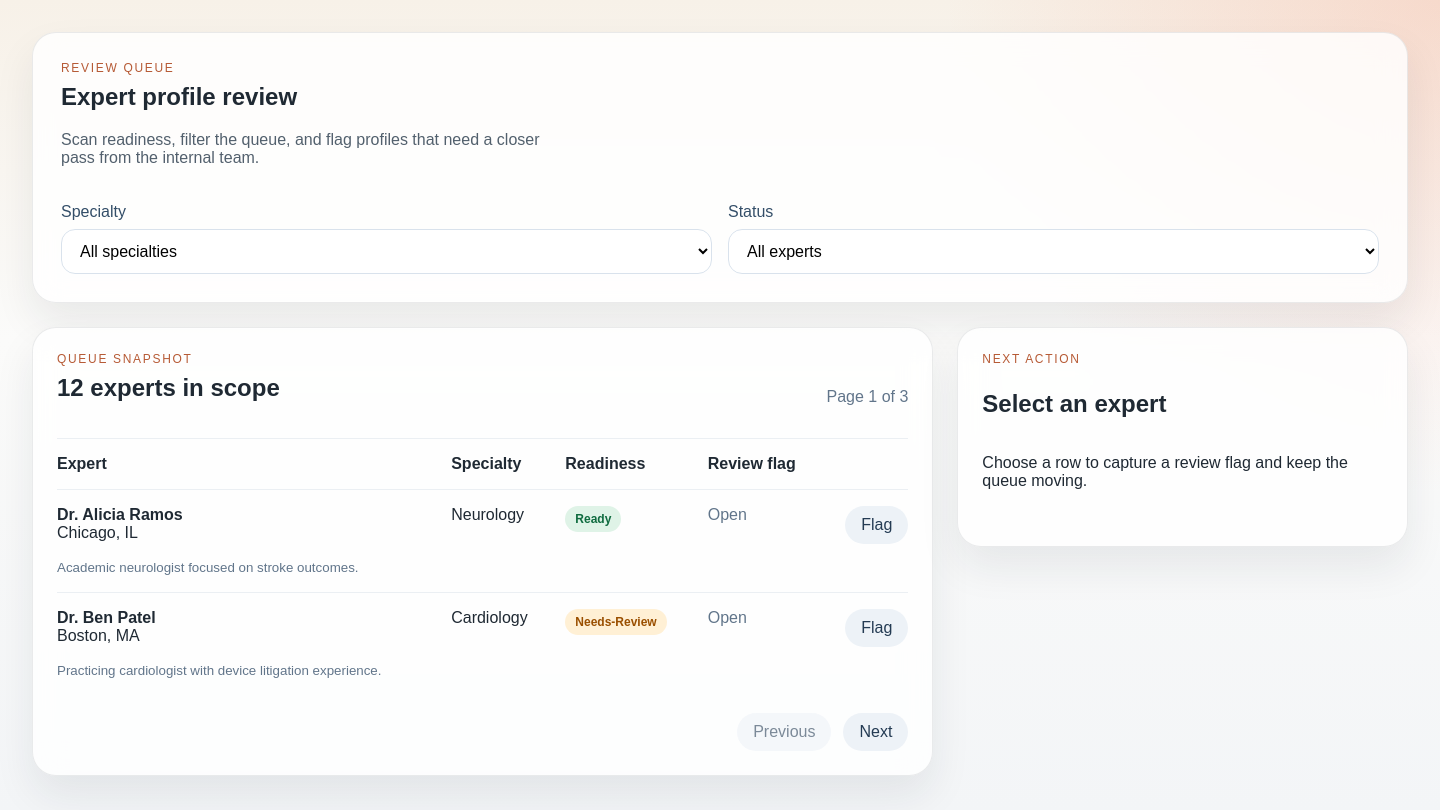
Test case: App › filters the list and flags an expert
This screenshot has width=1440, height=810.
Expected: the text "Dr. Alicia Ramos" is shown, [57, 506, 183, 523]
Select "Cardiology" in the dropdown labelled "Specialty" at {"x": 386, "y": 251}, box [61, 229, 712, 274]
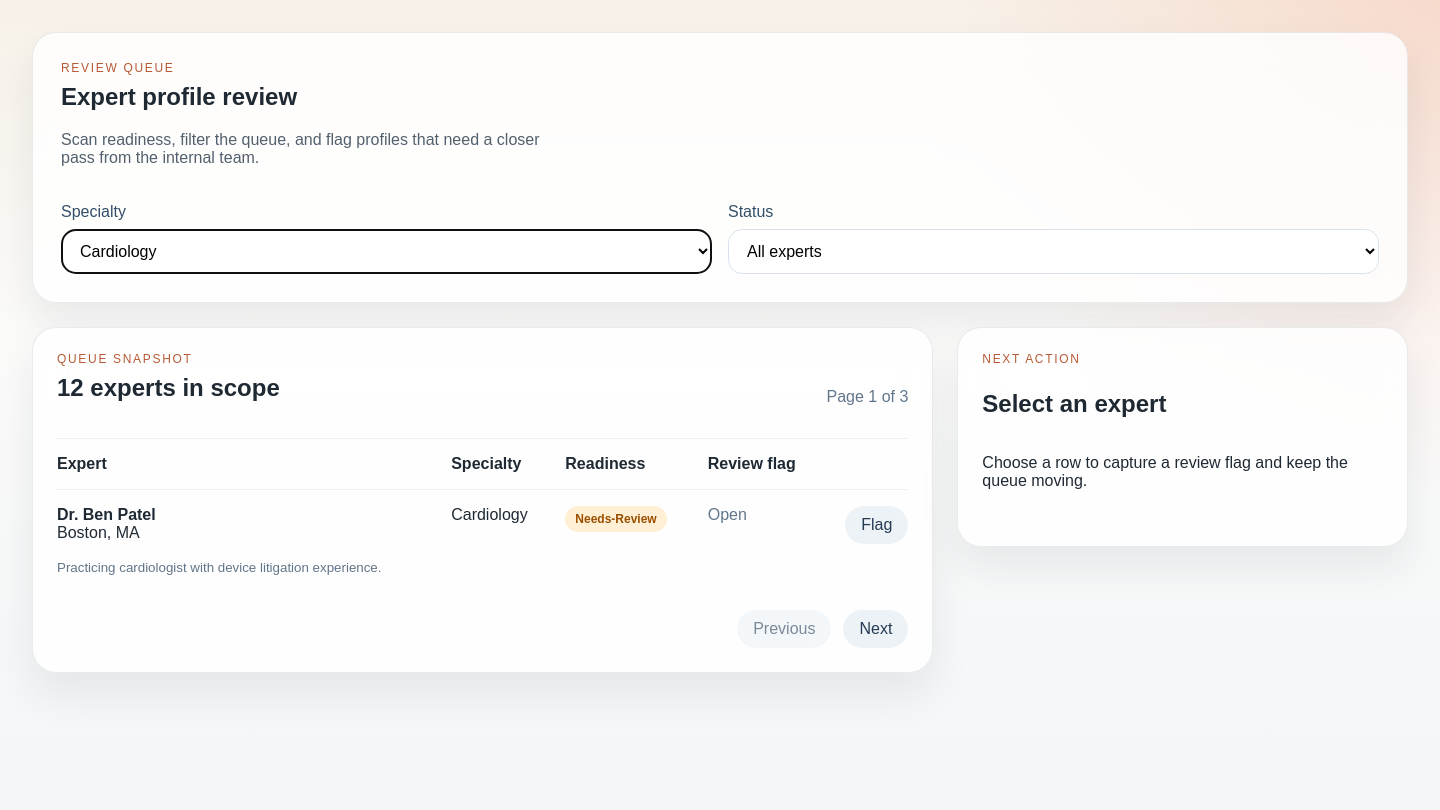
Expected: the text "Dr. Ben Patel" is shown, [57, 506, 156, 523]
Click the button "Flag" at {"x": 877, "y": 525}, box [845, 506, 908, 544]
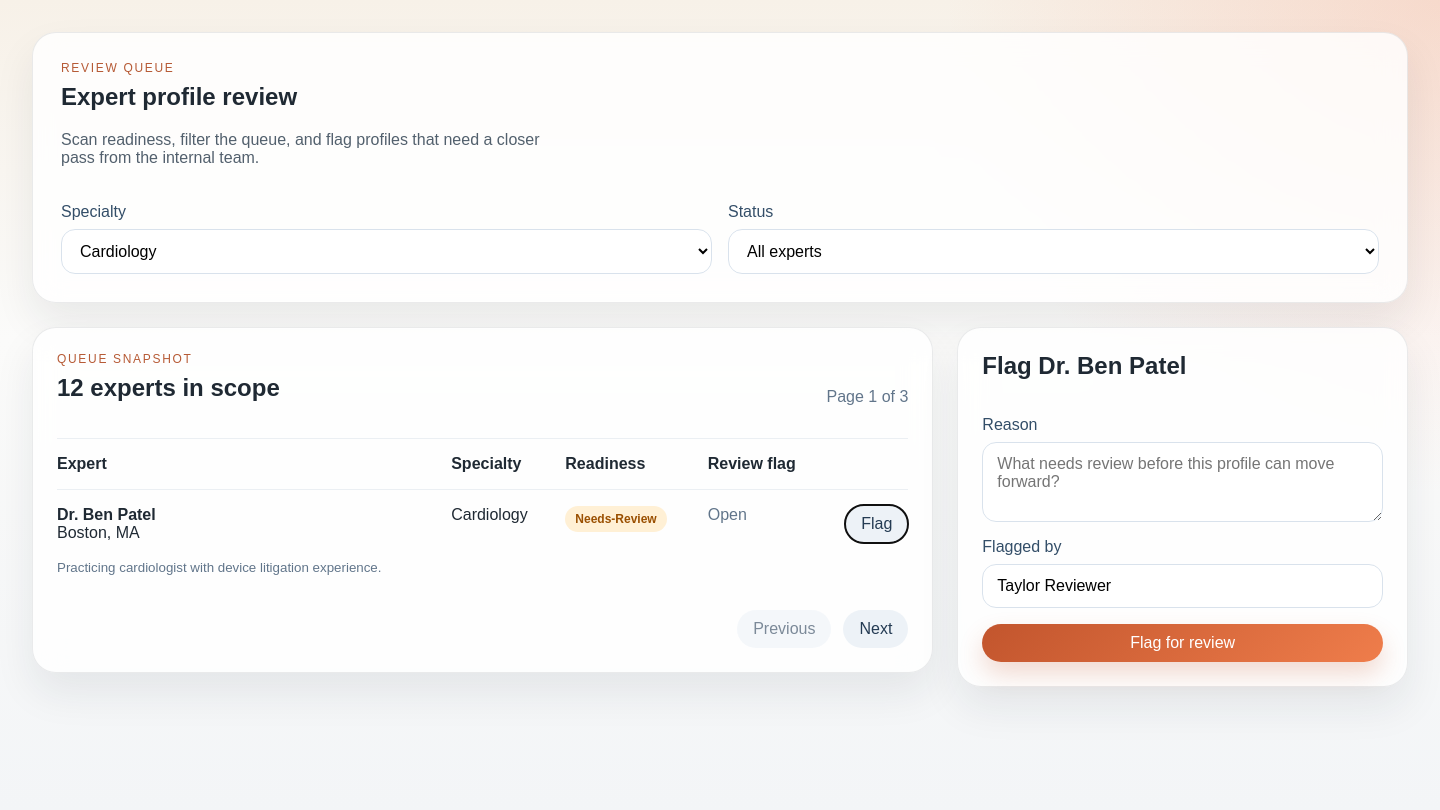
Type "Missing recent credential verification." into the text box labelled "Reason" at {"x": 1183, "y": 482}, box [982, 442, 1383, 522]
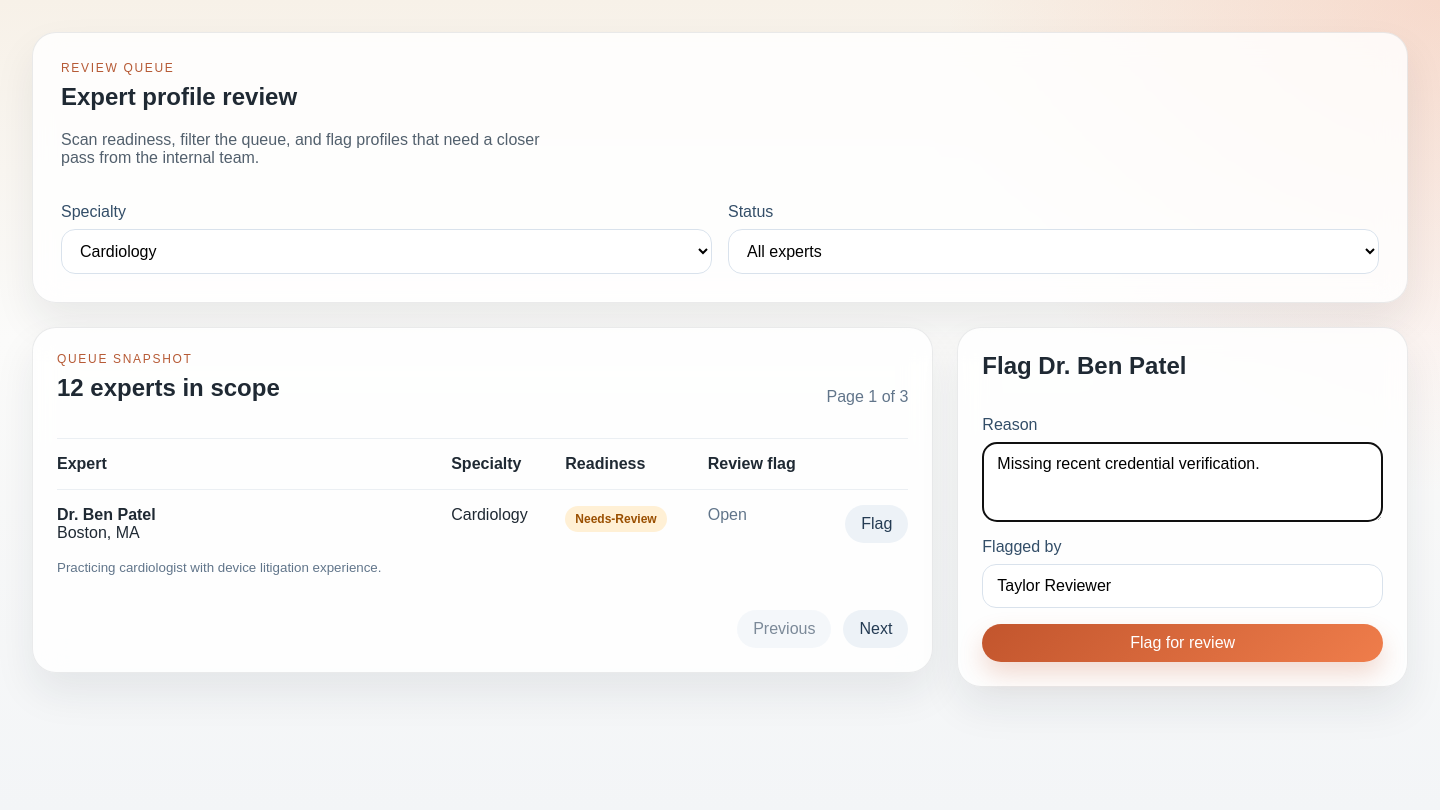
Click the button "Flag for review" at {"x": 1183, "y": 643}, box [982, 624, 1383, 662]
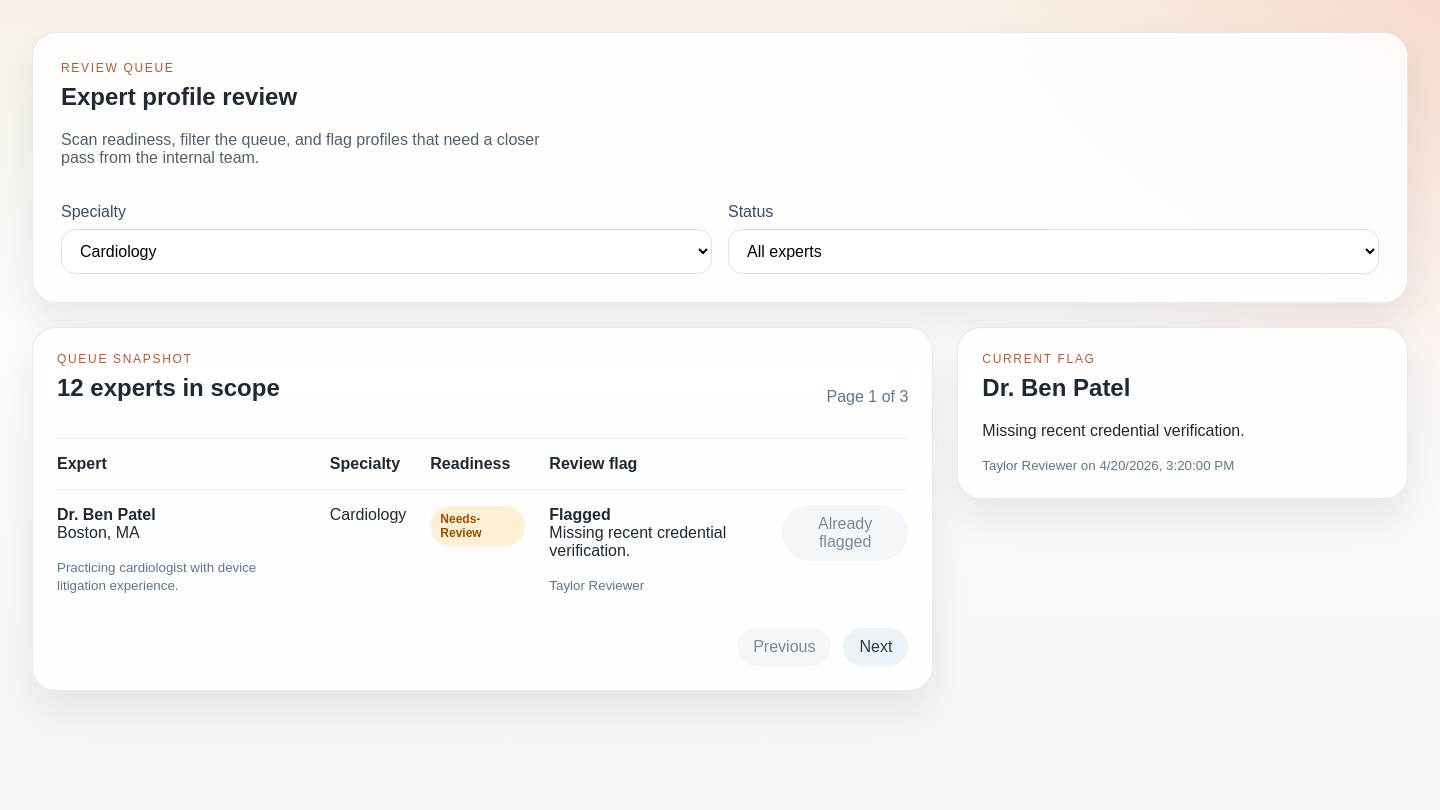
Expected: the text "Current flag" is shown, [982, 352, 1096, 366]
Expected: the text "Taylor Reviewer" is shown, [549, 578, 644, 593]
